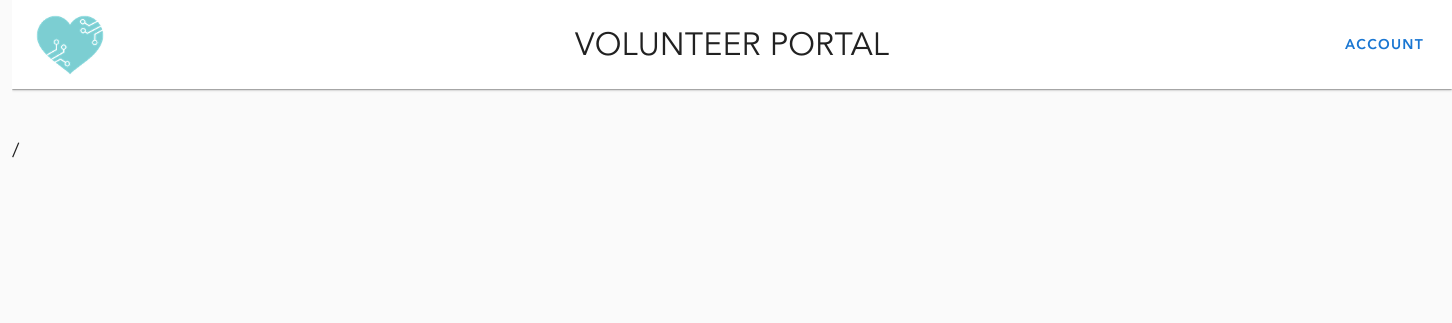
Test case: HeaderBar › navigates to the chosen page and closes the menu
The width and height of the screenshot is (1452, 323).
Click the button "Account": (1384, 44) [1337,28,1432,60]
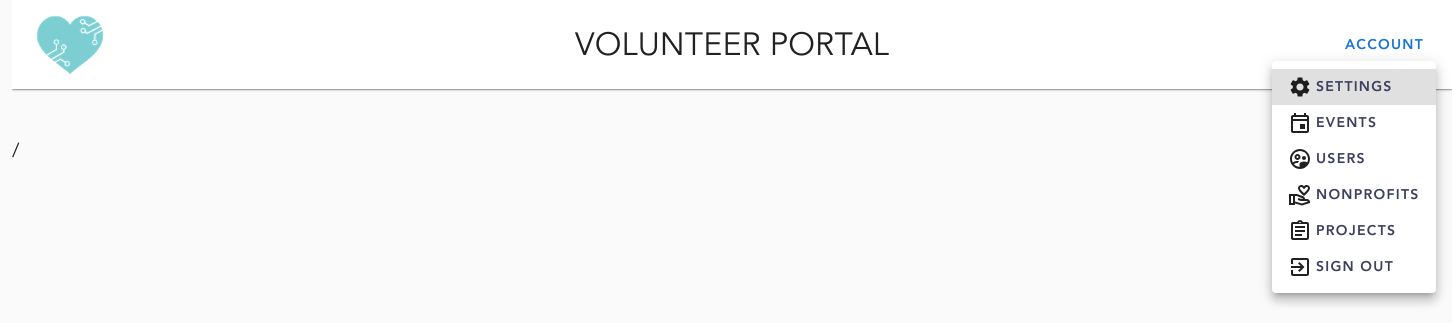
Click the menu item "Users": (1327, 159) [1288,147,1366,171]
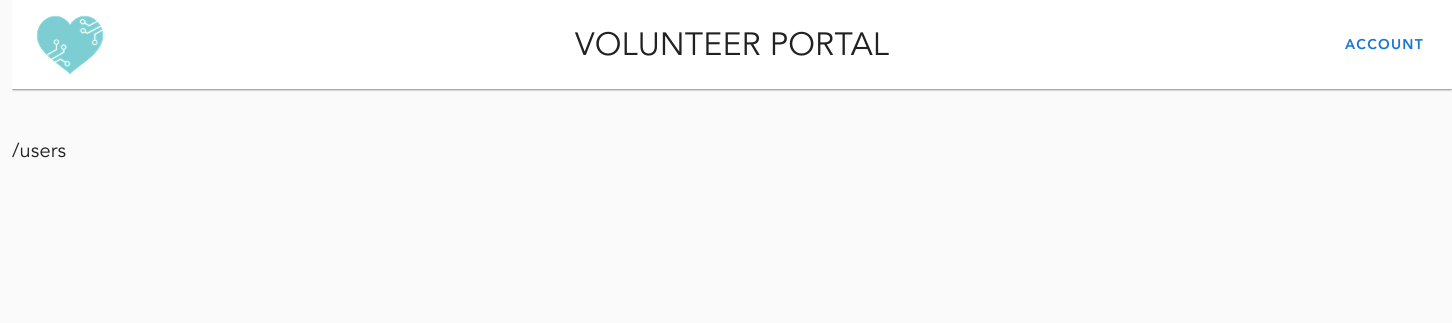
Check: the text with test id "location" reads "/users", box [12,137,66,164]
Check: the menu is gone
